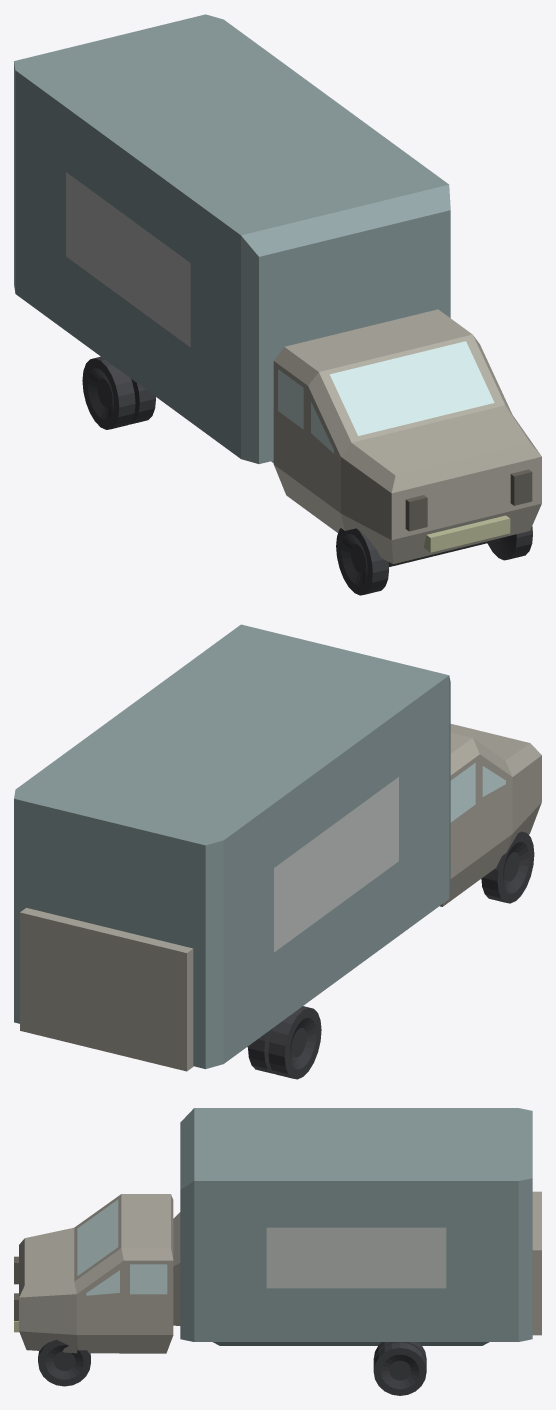
Rendered from lp_boxTruck(Colour).fbx.
3 views of the same model, one above another, from view 1: azimuth 30°, elevation 25°; view 2: azimuth 150°, elevation 25°; view 3: azimuth 270°, elevation 25° (orthographic). The views are drawn at different scales.
Visible parts, largest first — view 1: Cargo, Cab, BackWheel.001, FrontWheel, Cube.003, BackWheel.005, Cube.001, Cube.002; view 2: Cargo, Rename, Cab, BackWheel.001, FrontWheel; view 3: Cargo, Cab, BackWheel.002, BackWheel.005, Rename.
Part boxes in pixels (x1=…): Cargo: x1=14, y1=14, x2=450, y2=463; Cab: x1=273, y1=309, x2=541, y2=564; BackWheel.001: x1=82, y1=356, x2=155, y2=429; FrontWheel: x1=336, y1=528, x2=388, y2=595; Cube.003: x1=423, y1=515, x2=510, y2=552; BackWheel.005: x1=487, y1=526, x2=532, y2=560; Cube.001: x1=405, y1=495, x2=427, y2=531; Cube.002: x1=510, y1=469, x2=532, y2=505; Cargo: x1=14, y1=624, x2=450, y2=1069; Rename: x1=20, y1=908, x2=193, y2=1071; Cab: x1=440, y1=724, x2=541, y2=906; BackWheel.001: x1=248, y1=1006, x2=321, y2=1079; FrontWheel: x1=481, y1=831, x2=534, y2=903; Cargo: x1=180, y1=1108, x2=532, y2=1345; Cab: x1=19, y1=1194, x2=180, y2=1353; BackWheel.002: x1=373, y1=1342, x2=426, y2=1395; BackWheel.005: x1=38, y1=1339, x2=90, y2=1386; Rename: x1=532, y1=1191, x2=541, y2=1335.
Bounding box in the file's own units: 489 × 661 × 1478.
